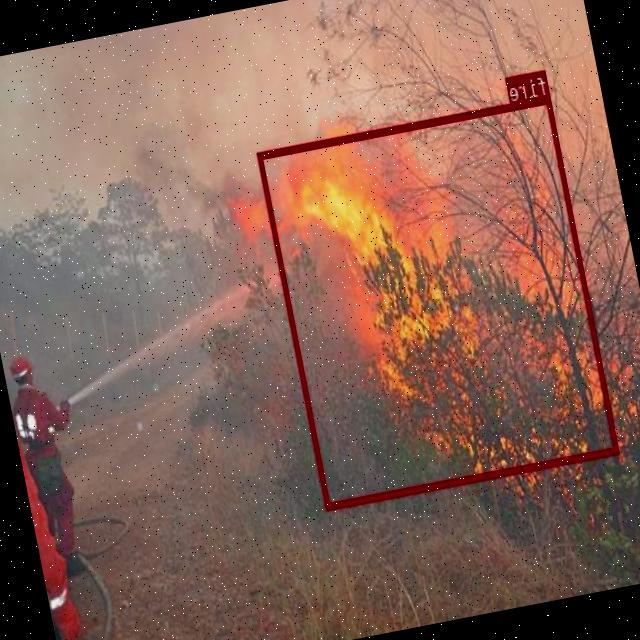fire: (257, 94, 620, 509)
